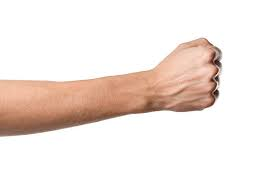fist: (163, 36, 230, 120)
